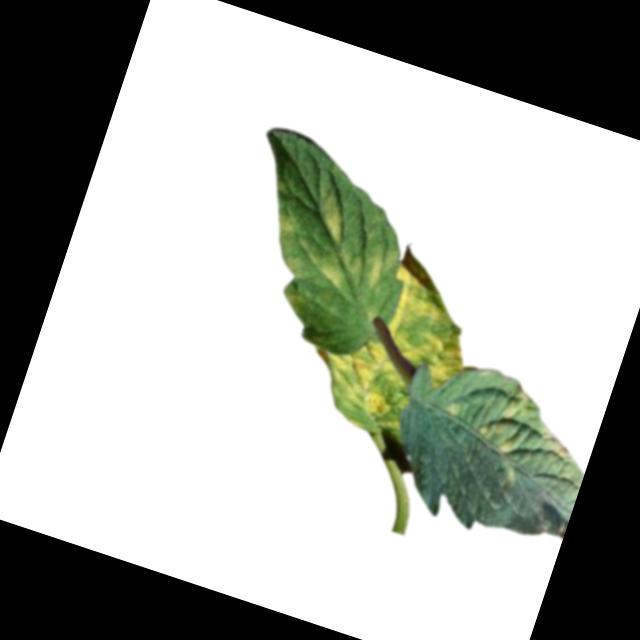Leaf_Mold: (363, 245, 493, 396), (300, 326, 429, 442), (463, 378, 586, 499), (305, 228, 401, 305), (312, 191, 356, 244), (270, 207, 310, 243)
